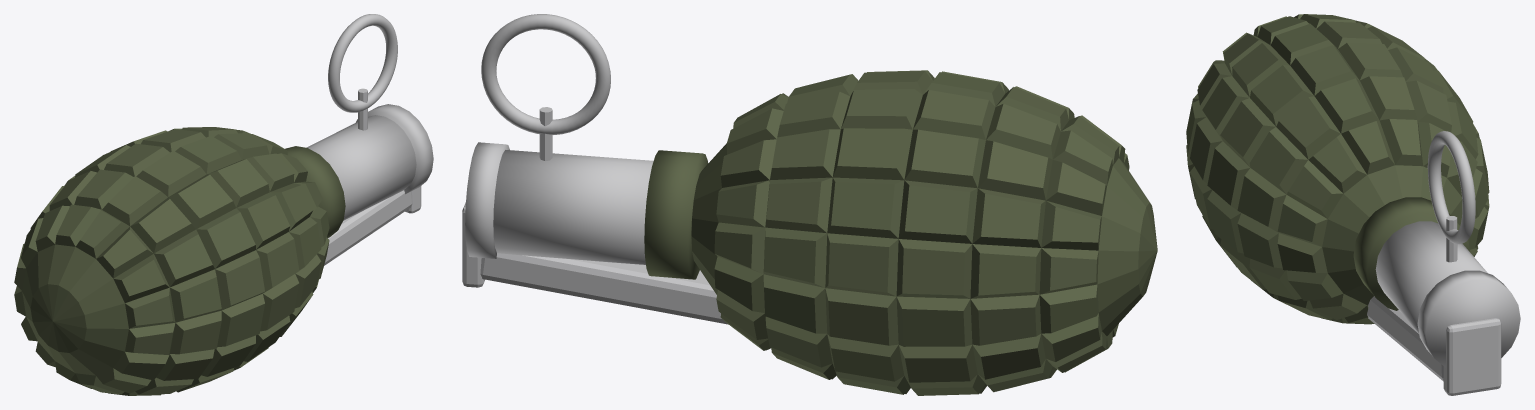
Rendered from Item_grenade_f1.fbx.
3 renders of one model, left to right at view 1: azimuth 30°, elevation 25°; view 2: azimuth 150°, elevation 25°; view 3: azimuth 270°, elevation 25°, orthographic. The views are drawn at different scales.
Parts seen in each view (by area): view 1: model.020, ring.001, lever; view 2: model.020, lever, ring.001; view 3: model.020, lever, ring.001.
Boxes of the visible parts, x1=… form: model.020: x1=14, y1=104, x2=433, y2=395; ring.001: x1=328, y1=14, x2=397, y2=130; lever: x1=324, y1=186, x2=421, y2=265; model.020: x1=465, y1=70, x2=1157, y2=395; lever: x1=462, y1=202, x2=728, y2=324; ring.001: x1=481, y1=14, x2=610, y2=160; model.020: x1=1186, y1=14, x2=1520, y2=367; lever: x1=1367, y1=296, x2=1501, y2=395; ring.001: x1=1427, y1=131, x2=1475, y2=262.
Bounding box in the file's own units: 0.122 × 0.0672 × 0.0695.
